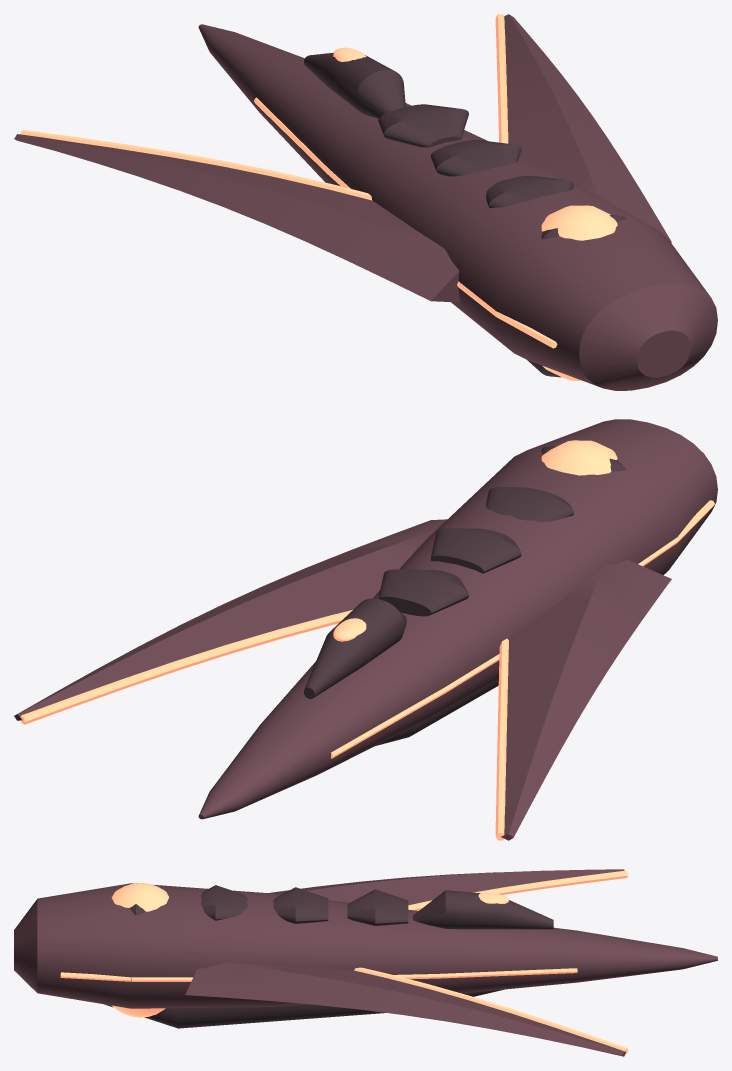
The model's file is alien_corveta.gltf.
3 renders of one model, top to bottom at view 1: azimuth 30°, elevation 25°; view 2: azimuth 150°, elevation 25°; view 3: azimuth 270°, elevation 25°, orthographic. The views are drawn at different scales.
Parts seen in each view (by area): view 1: alien_corveta_cuerpo, alien_corveta_cuchilla_babor, alien_corveta_cuchilla_estribor, alien_corveta_cuerpo_placas, alien_corveta_corazon, alien_corveta_filo_babor, alien_corveta_nucleo, alien_corveta_cuerpo_vetas, alien_corveta_filo_estribor; view 2: alien_corveta_cuerpo, alien_corveta_cuchilla_babor, alien_corveta_cuchilla_estribor, alien_corveta_cuerpo_placas, alien_corveta_corazon, alien_corveta_filo_estribor, alien_corveta_nucleo, alien_corveta_filo_babor, alien_corveta_cuerpo_vetas; view 3: alien_corveta_cuerpo, alien_corveta_cuchilla_estribor, alien_corveta_cuerpo_placas, alien_corveta_cuchilla_babor, alien_corveta_corazon, alien_corveta_cuerpo_vetas, alien_corveta_nucleo, alien_corveta_filo_estribor, alien_corveta_filo_babor.
Part boxes in pixels (x1,y1,x2,y2): alien_corveta_cuerpo: (198, 24, 717, 390); alien_corveta_cuchilla_babor: (14, 134, 460, 302); alien_corveta_cuchilla_estribor: (504, 14, 671, 242); alien_corveta_cuerpo_placas: (378, 104, 625, 377); alien_corveta_corazon: (304, 52, 405, 118); alien_corveta_filo_babor: (20, 130, 372, 200); alien_corveta_nucleo: (541, 205, 617, 380); alien_corveta_cuerpo_vetas: (254, 97, 557, 348); alien_corveta_filo_estribor: (495, 14, 508, 143); alien_corveta_cuerpo: (198, 419, 717, 819); alien_corveta_cuchilla_babor: (501, 560, 671, 840); alien_corveta_cuchilla_estribor: (14, 519, 446, 720); alien_corveta_cuerpo_placas: (376, 446, 625, 745); alien_corveta_corazon: (304, 598, 406, 698); alien_corveta_filo_estribor: (20, 610, 352, 724); alien_corveta_nucleo: (541, 440, 617, 475); alien_corveta_filo_babor: (495, 638, 508, 840); alien_corveta_cuerpo_vetas: (331, 500, 714, 758); alien_corveta_cuerpo: (14, 883, 717, 1008); alien_corveta_cuchilla_estribor: (185, 962, 625, 1056); alien_corveta_cuerpo_placas: (104, 883, 504, 1028); alien_corveta_cuchilla_babor: (268, 869, 624, 905); alien_corveta_corazon: (413, 890, 553, 929); alien_corveta_cuerpo_vetas: (60, 968, 577, 981); alien_corveta_nucleo: (111, 883, 168, 1017); alien_corveta_filo_estribor: (354, 967, 627, 1054); alien_corveta_filo_babor: (408, 870, 627, 910).
Bounding box in the file's own units: 187 × 66 × 300.
